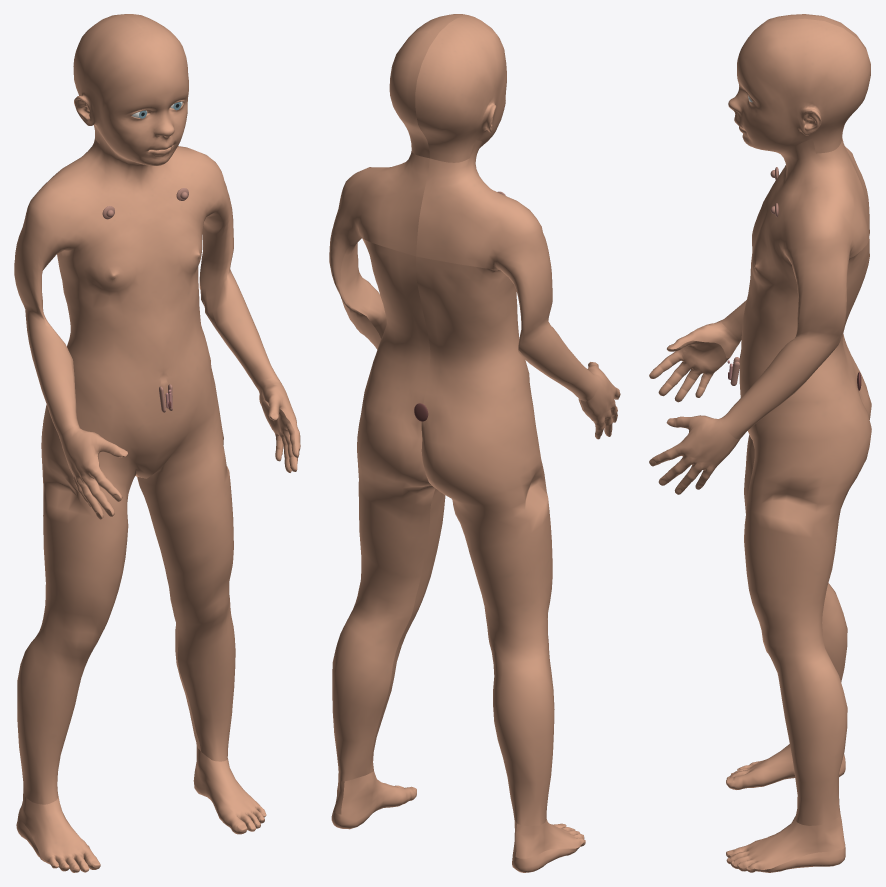
File: body-kleinkind-weiblich-real-v3.glb
The picture shows the model from 3 angles, left to right: view 1: azimuth 30°, elevation 25°; view 2: azimuth 150°, elevation 25°; view 3: azimuth 270°, elevation 25°; orthographic projection.
Visible parts, largest first — view 1: real-human-body; view 2: real-human-body; view 3: real-human-body.
Part boxes in pixels (box(x1,y1,x2,y2)): real-human-body: box(14, 14, 300, 872); real-human-body: box(329, 14, 620, 872); real-human-body: box(649, 14, 871, 872).
Size of the model in its own units: 0.2836 by 1 by 0.2505.
Materials: 8 (1 with a texture image).
